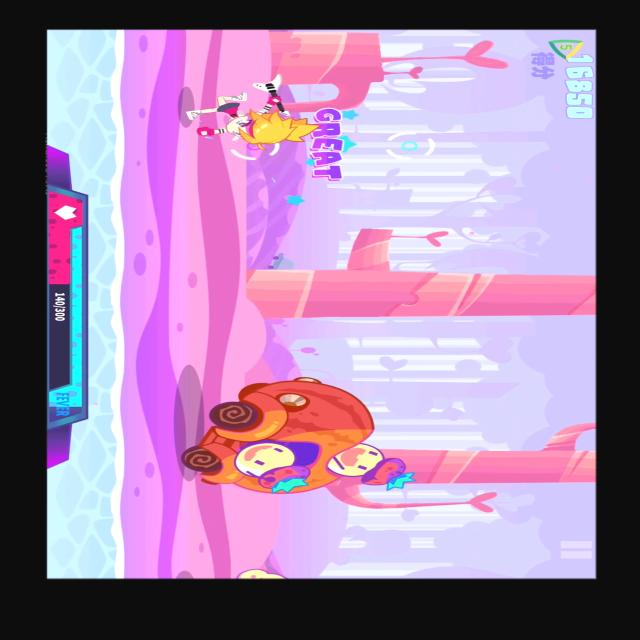cheboss: (174, 375, 418, 495)
